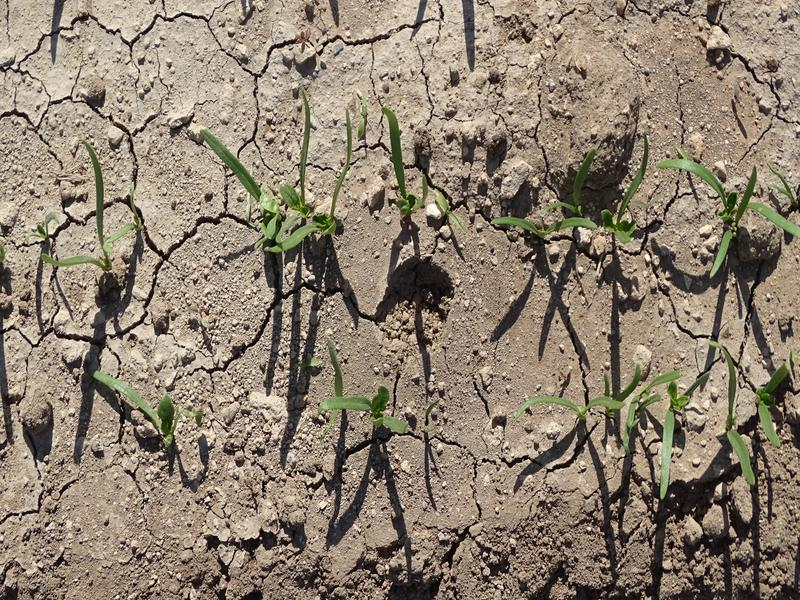Espinaca: (202, 101, 357, 254), (662, 152, 799, 273), (500, 140, 657, 237), (704, 331, 792, 482), (55, 151, 132, 278), (625, 375, 687, 492), (95, 372, 185, 447), (315, 389, 419, 432), (382, 106, 422, 214), (516, 395, 623, 417)
